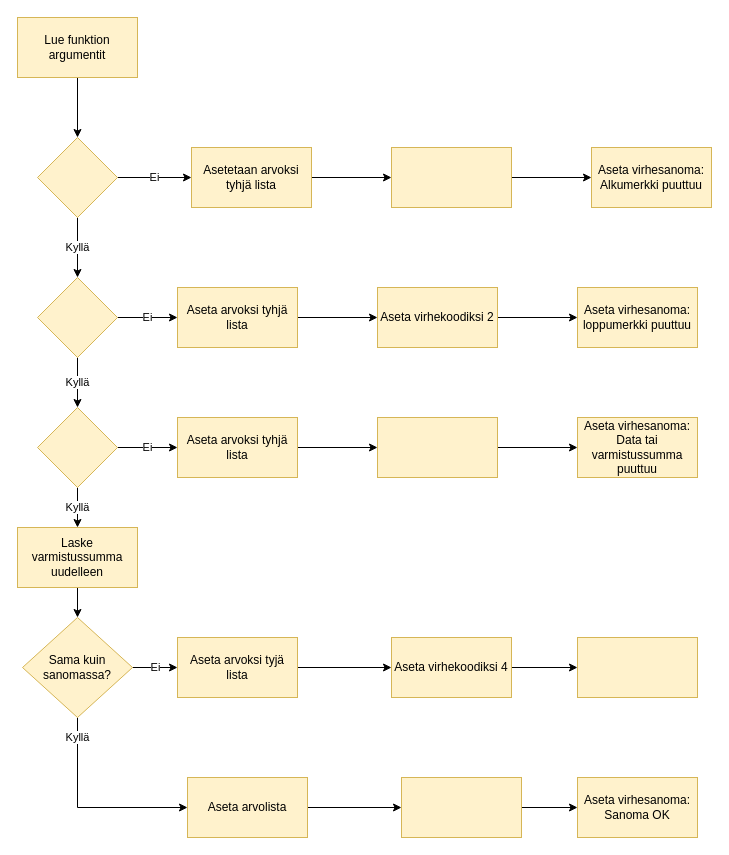
Image size: 729x855. Some labels were removed from this diagram. Here are the shapes that lost their labels. From the top down, the centre of each, then its label:
At pixel 77 177: "Onko alku-merkki?".
At pixel 451 177: "Aseta virhekoodiksi 1".
At pixel 77 317: "Onko loppu-merkki?".
At pixel 77 447: "Osia >= 2".
At pixel 437 447: "Aseta virhekoodiksi 3".
At pixel 637 667: "Aseta virhesanoma: Varmistussumma virheellinen".
At pixel 461 807: "Aseta virhekoodiksi 0".
